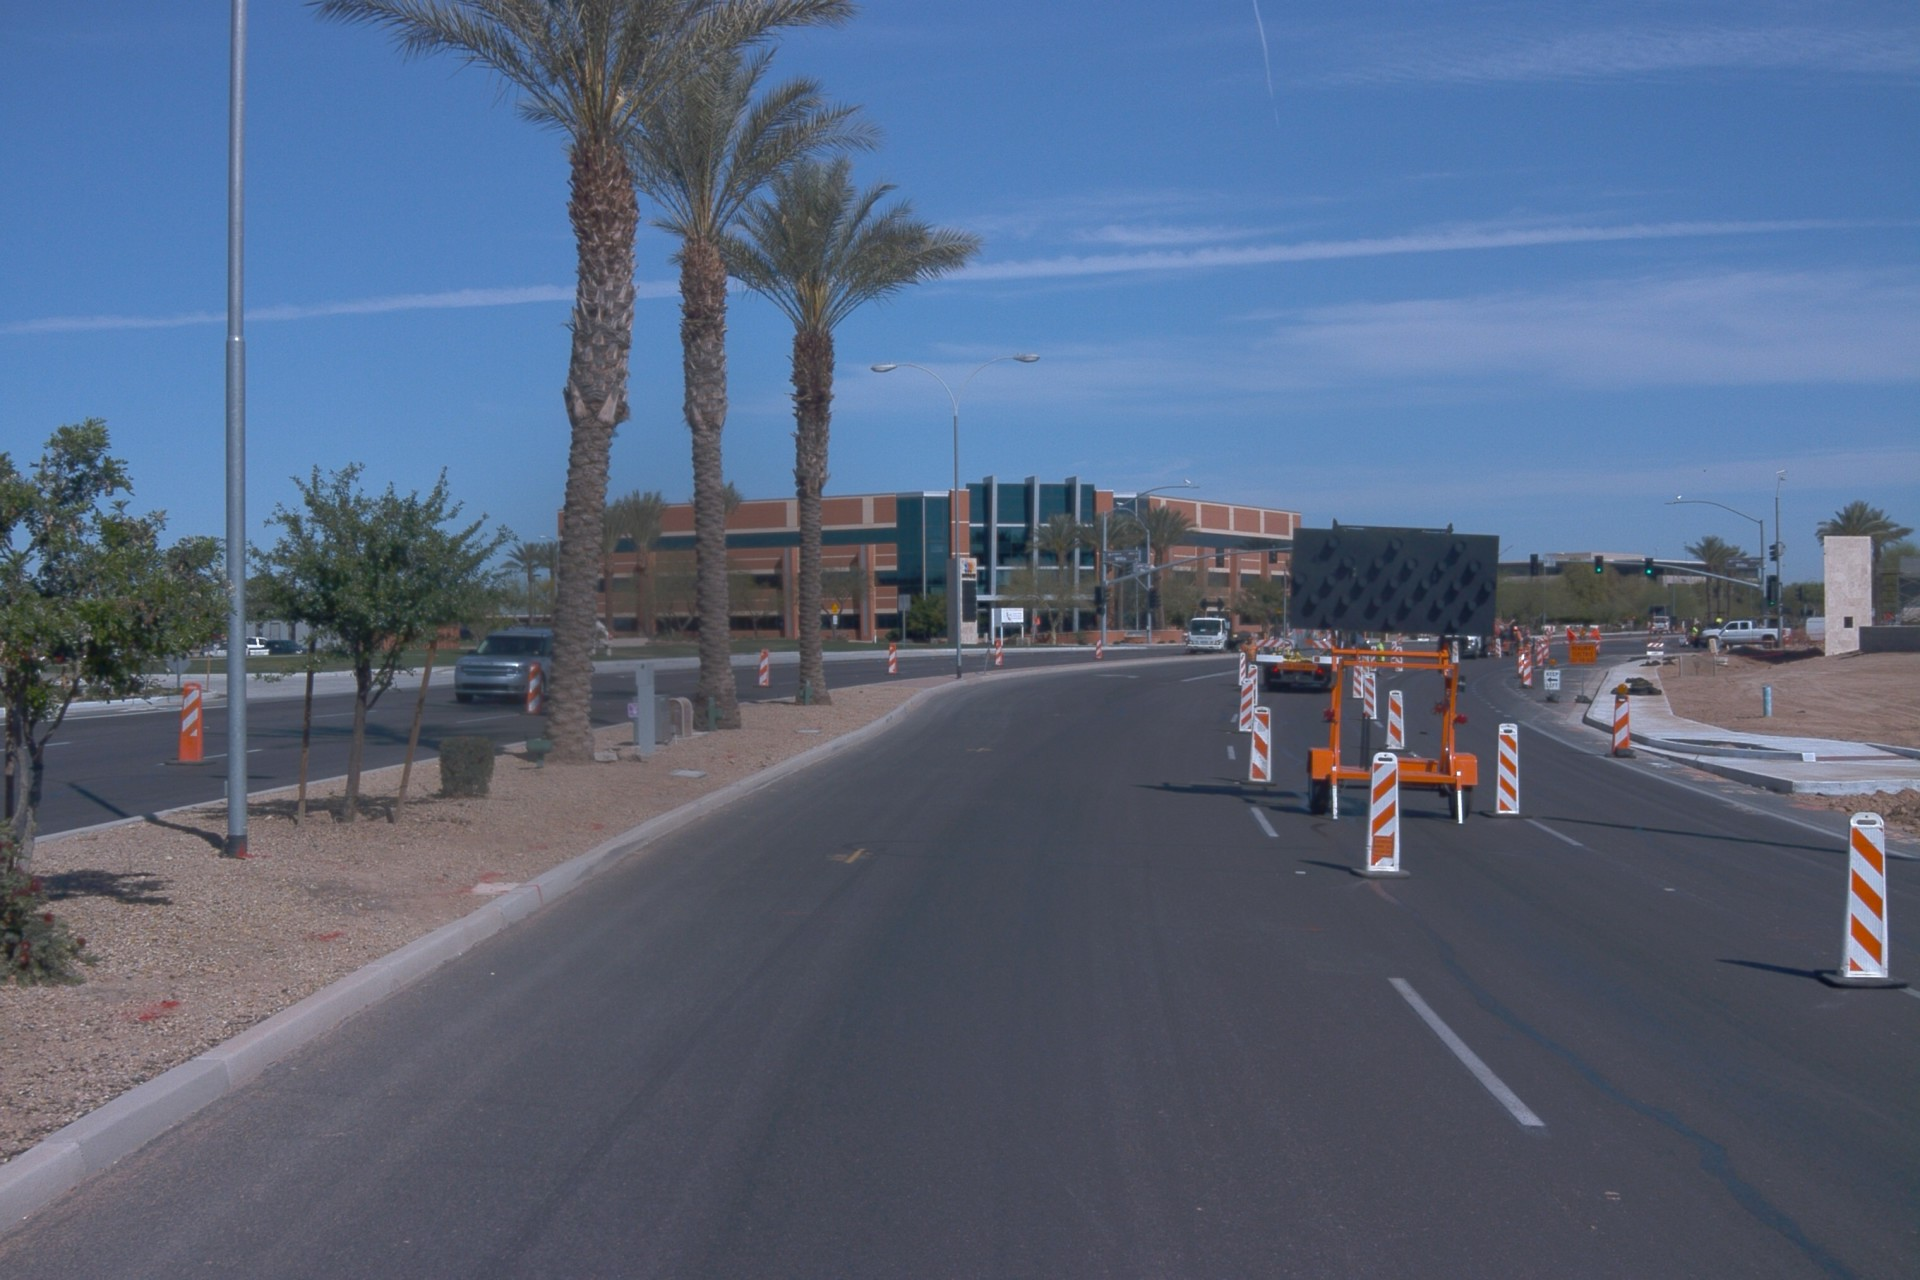TYPE_PEDESTRIAN: (1238, 636, 1258, 679), (1376, 637, 1388, 678)
TYPE_VEHICLE: (1285, 516, 1525, 836), (451, 628, 553, 705), (1251, 627, 1340, 691), (1433, 620, 1527, 661), (1697, 618, 1791, 654), (1180, 616, 1254, 660), (189, 638, 272, 663), (262, 635, 314, 661), (1651, 614, 1692, 635), (236, 633, 269, 647)
